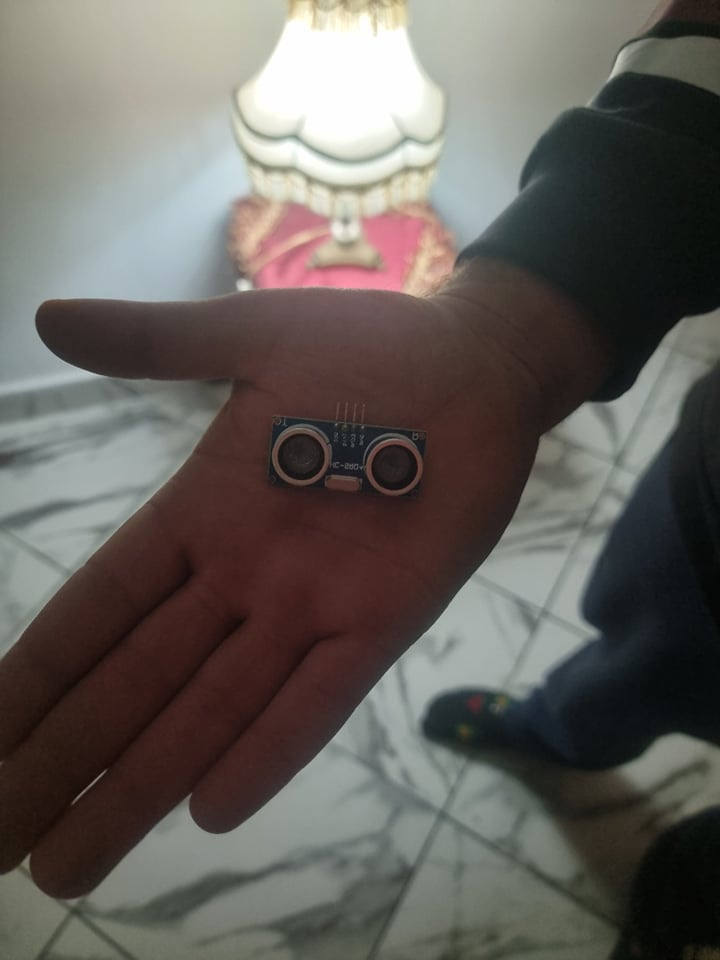SENSOR: (261, 415, 433, 502)
